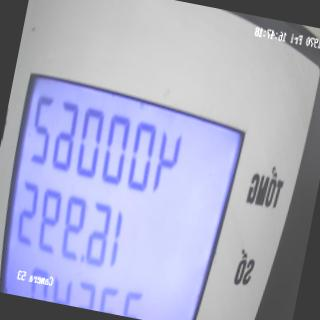screen: (0, 62, 253, 320)
